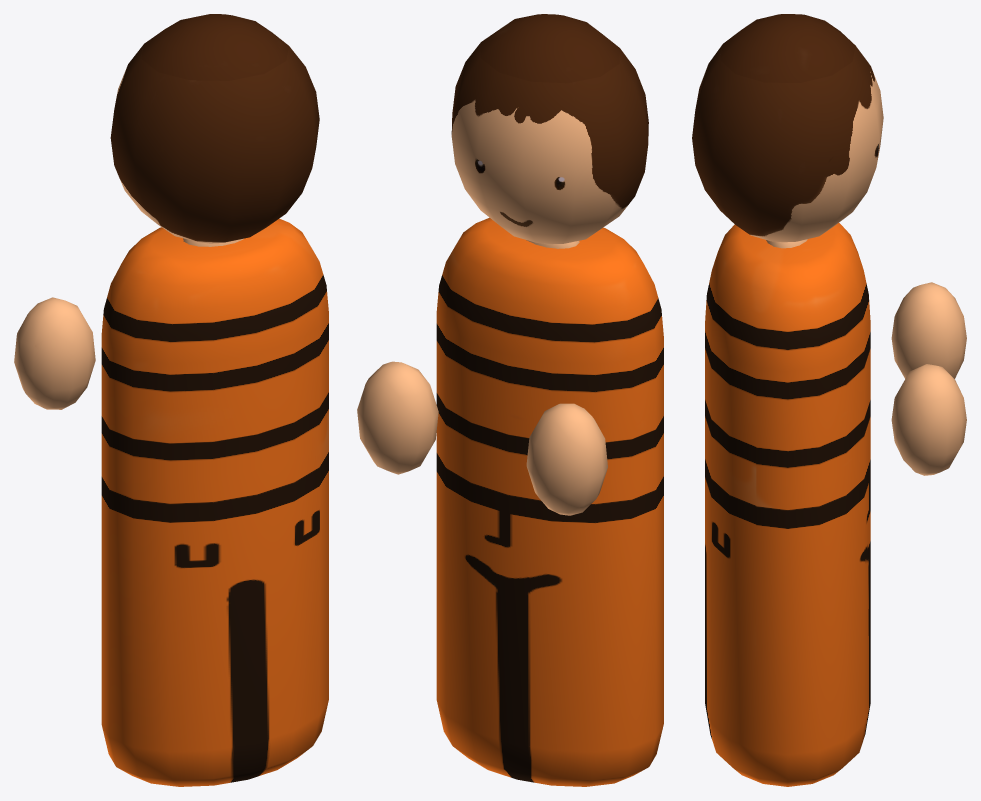
File: hider_crouching_body.glb
The picture shows the model from 3 angles, left to right: view 1: azimuth 30°, elevation 25°; view 2: azimuth 150°, elevation 25°; view 3: azimuth 270°, elevation 25°; orthographic projection.
Visible parts, largest first — view 1: hider_crouching; view 2: hider_crouching; view 3: hider_crouching.
Part boxes in pixels (<box>): hider_crouching: <box>14,14,328,786</box>; hider_crouching: <box>357,14,663,786</box>; hider_crouching: <box>692,14,966,786</box>.
Bounding box in the file's own units: 0.3496 × 1.02 × 0.3492.
Materials: 1 (1 with a texture image).
